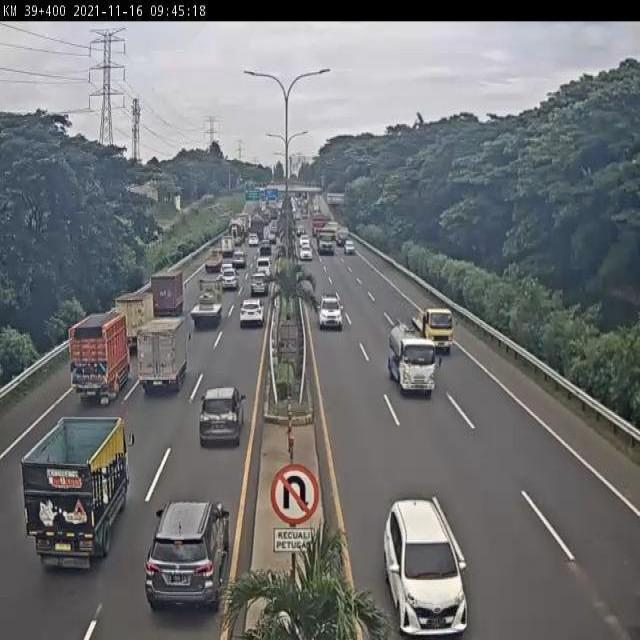car: (383, 496, 469, 633), (145, 502, 231, 610), (196, 392, 243, 451), (317, 295, 341, 329), (238, 303, 263, 329), (248, 277, 268, 303), (229, 248, 248, 271), (220, 271, 237, 292)
small bus: (254, 259, 273, 280)
small truck: (22, 420, 135, 569), (137, 320, 191, 397), (387, 326, 440, 398), (114, 293, 156, 348), (411, 303, 455, 352), (202, 248, 222, 272)
truck-m-: (71, 314, 129, 402), (183, 285, 221, 335), (150, 269, 182, 323)
